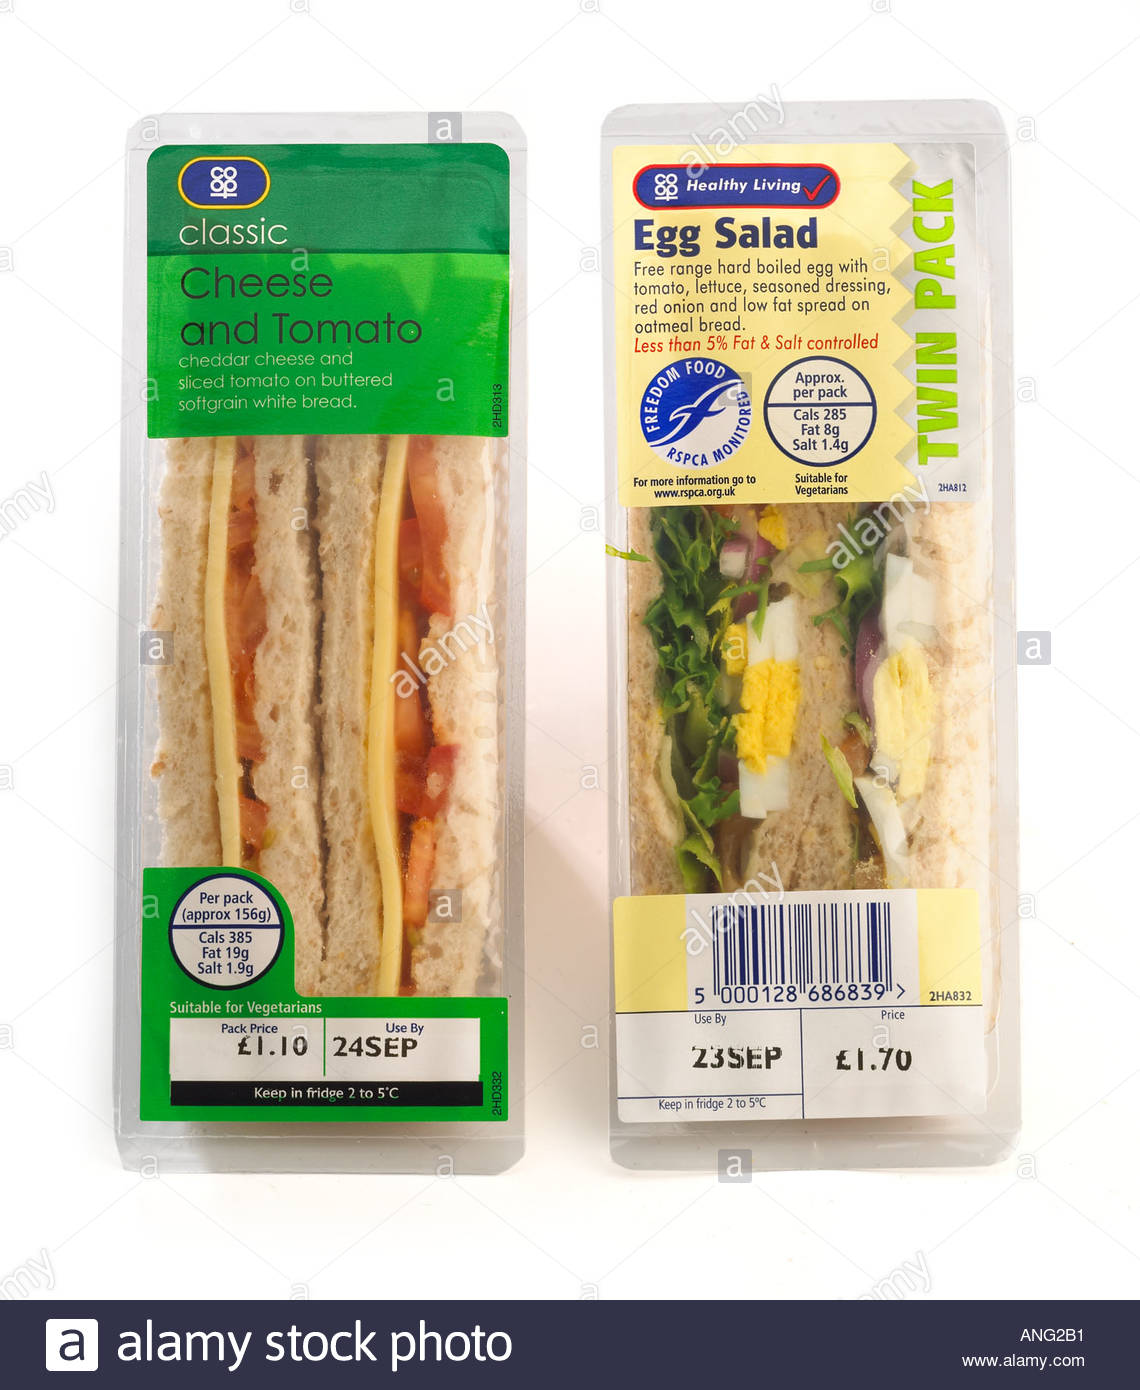sandwich: (55, 35, 569, 1202), (556, 51, 1072, 1198)
